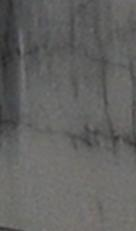fissura: (3, 0, 31, 149), (59, 110, 136, 158), (87, 32, 125, 104)
